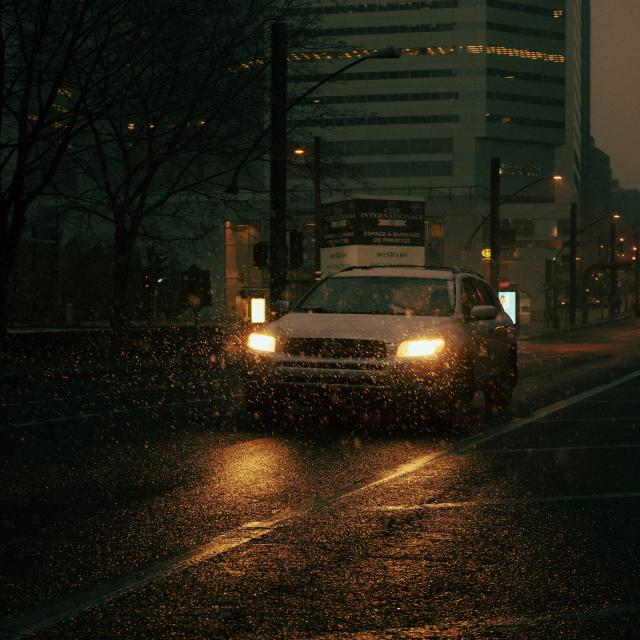car: (241, 264, 520, 420)
